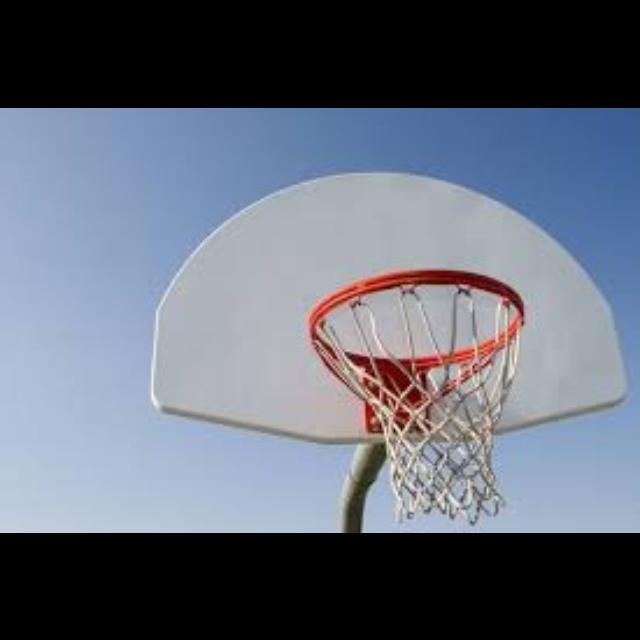rim: (310, 268, 524, 524)
